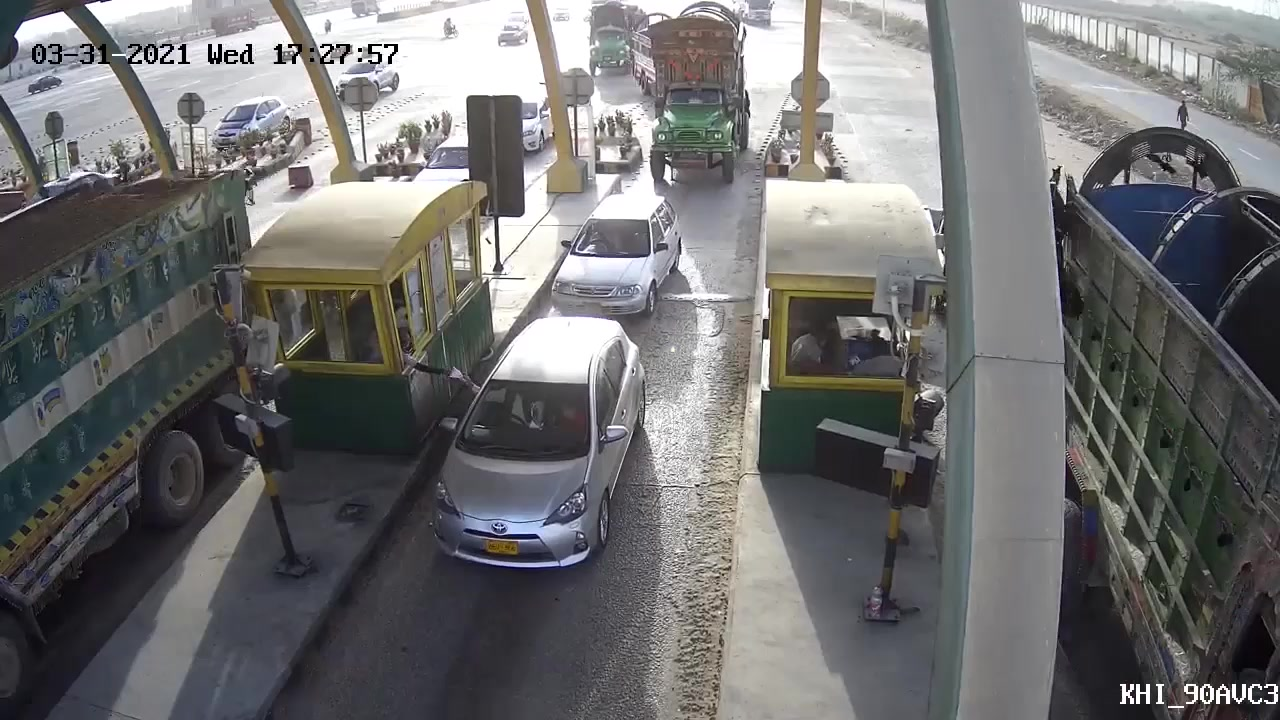F1: (378, 311, 659, 603)
